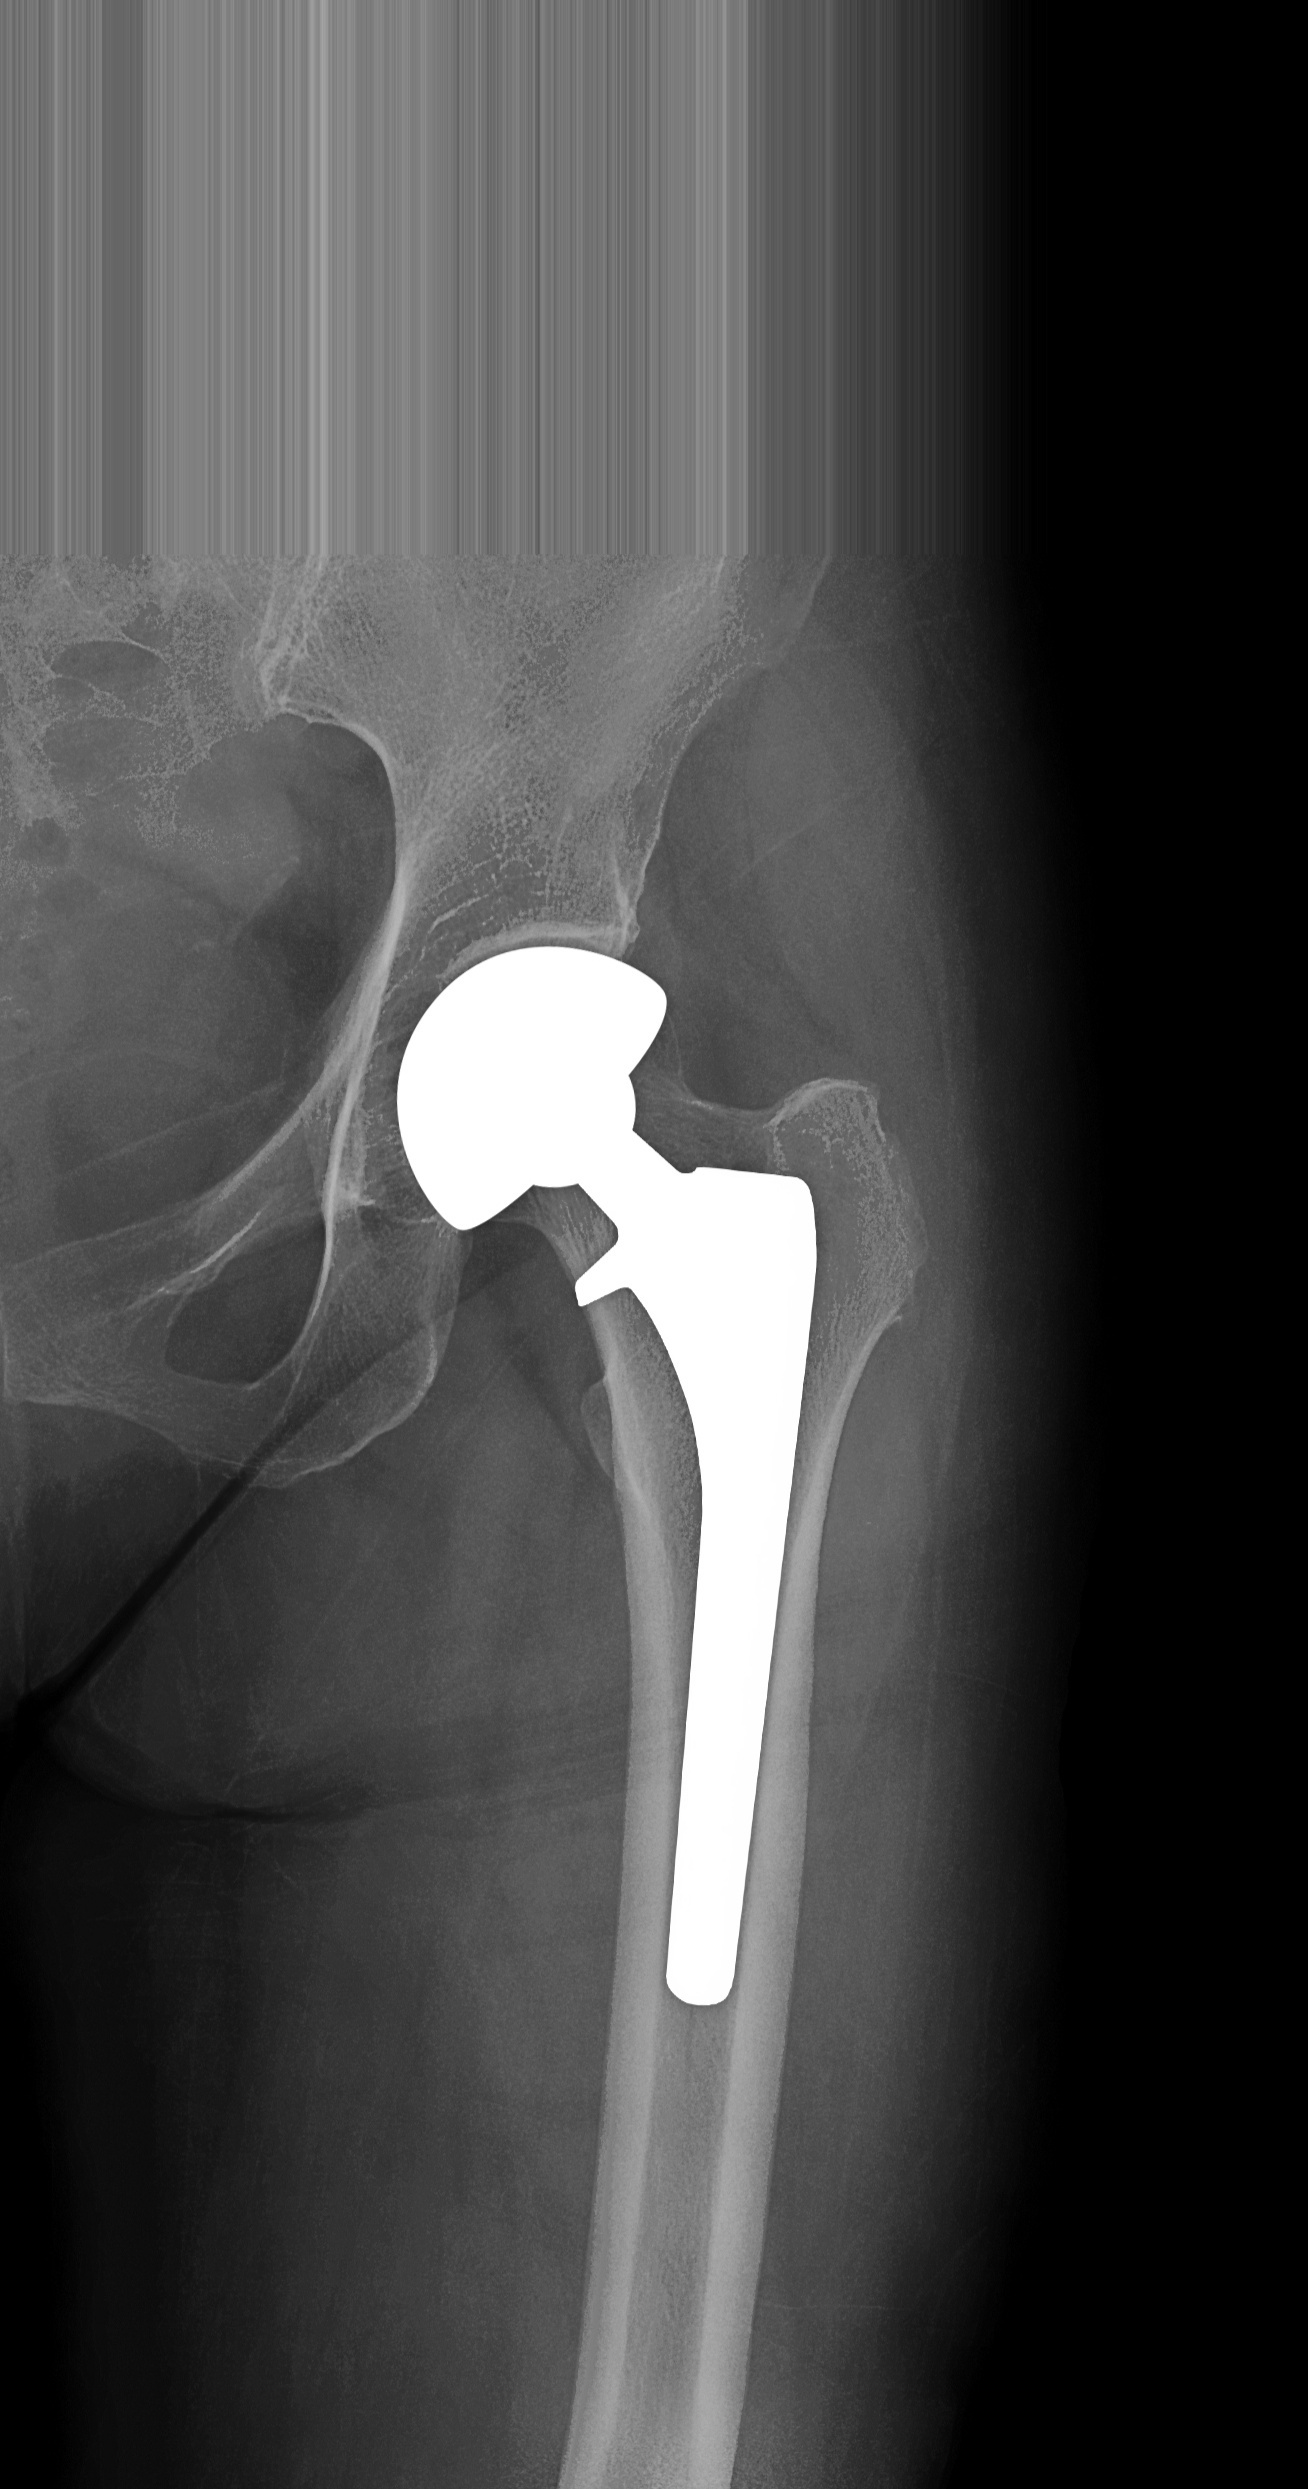Hip - APR - Zimmer: (355, 896, 884, 2053)
